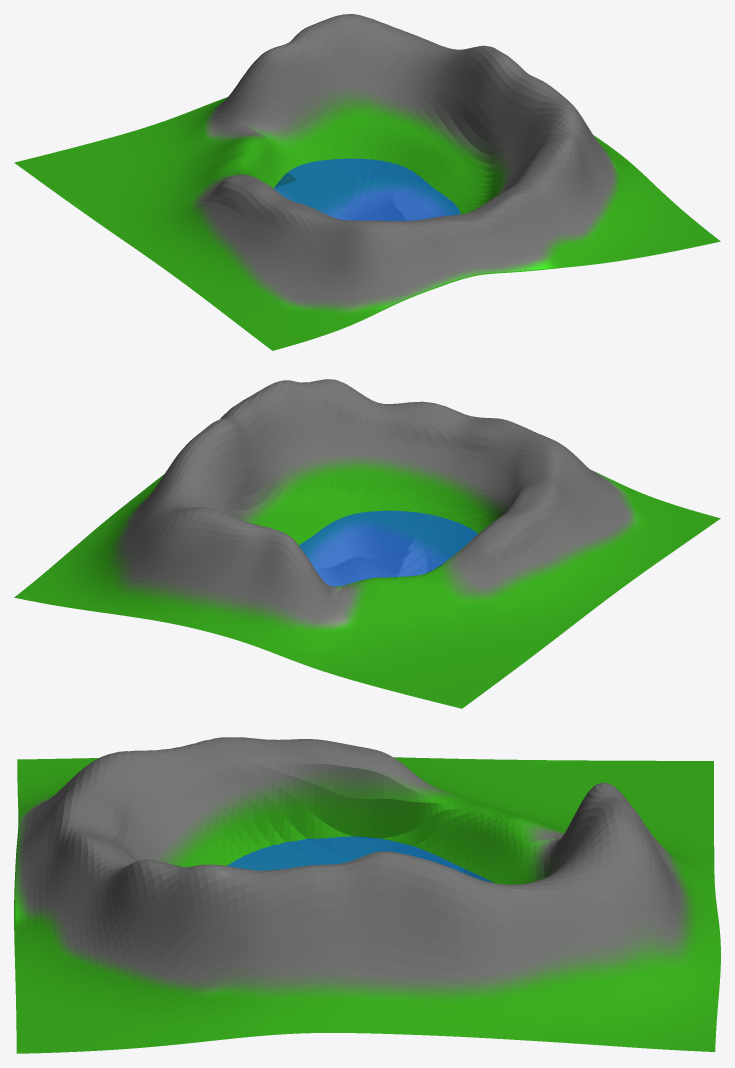
Rendered from landscape.gltf.
3 views of the same model, one above another, from view 1: azimuth 30°, elevation 25°; view 2: azimuth 150°, elevation 25°; view 3: azimuth 270°, elevation 25° (orthographic). The views are drawn at different scales.
Visible parts, largest first — view 1: Grid, Water; view 2: Grid, Water; view 3: Grid, Water.
Part boxes in pixels (<box>): Grid: <box>14,14,720,350</box>; Water: <box>274,158,460,220</box>; Grid: <box>14,379,720,708</box>; Water: <box>299,510,477,586</box>; Grid: <box>14,737,720,1053</box>; Water: <box>227,836,493,882</box>.
Bounding box in the file's own units: 2 × 0.6288 × 2.03.
Materials: 2 (1 with a texture image).
